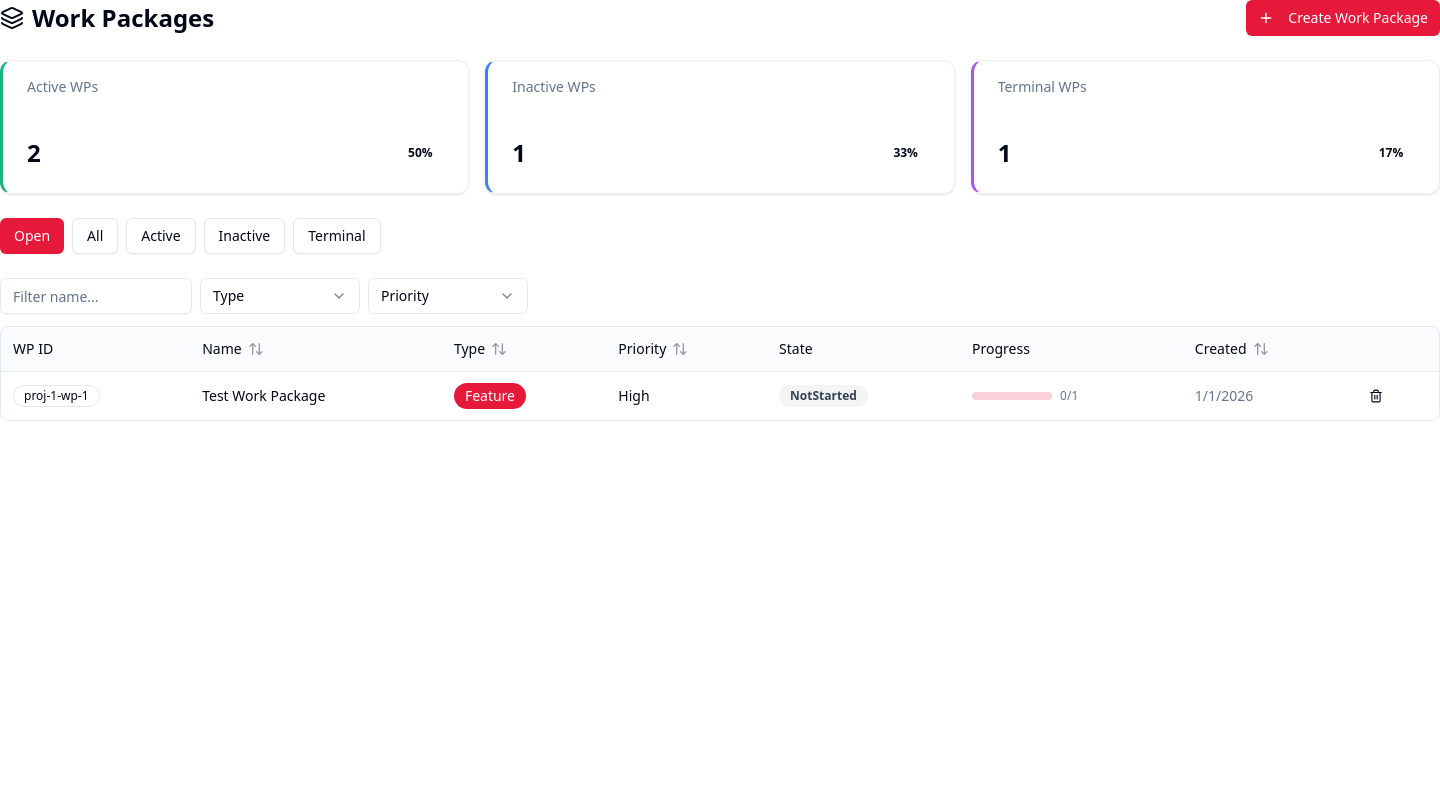
Test: WorkPackagesListPage › shows delete confirmation dialog
Check: the text "Test Work Package" is shown, box [202,386,325,404]
Click the 6th button at coordinates (1376, 396), box [1362,382,1390,410]
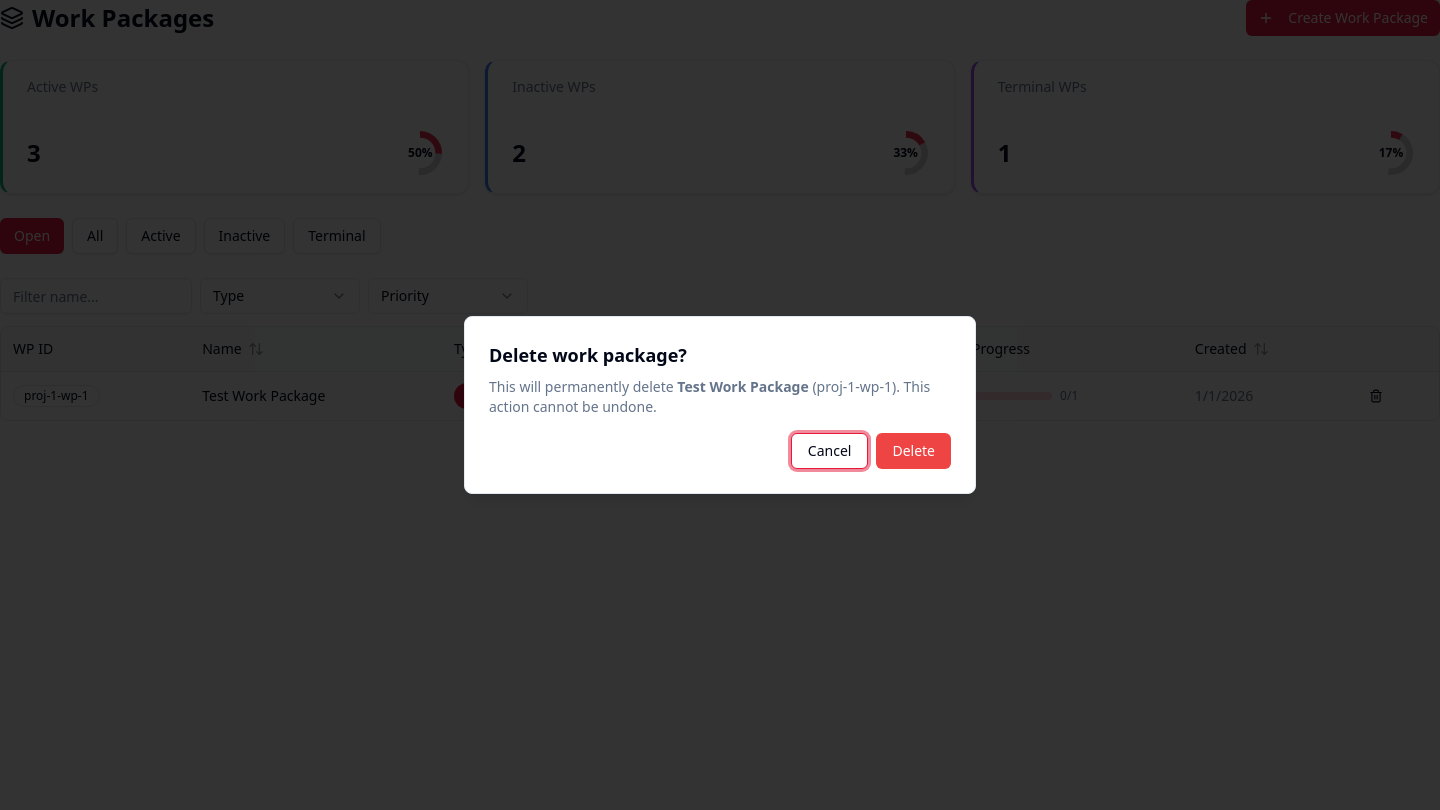
Check: the heading "Delete work package?" is shown, box [489,343,687,367]
